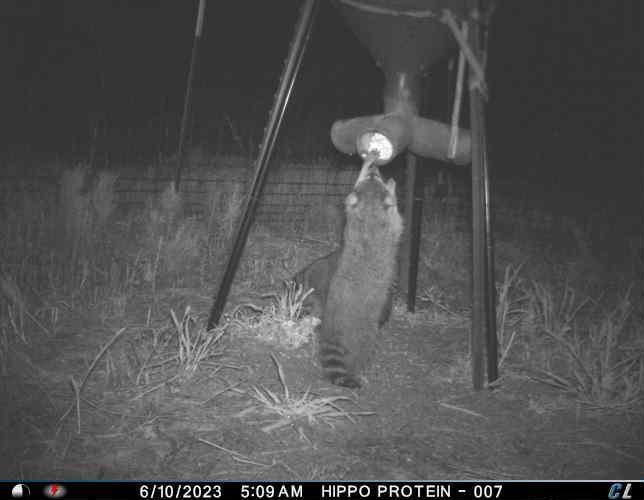Raccoon: (317, 164, 410, 392), (286, 241, 340, 305)
